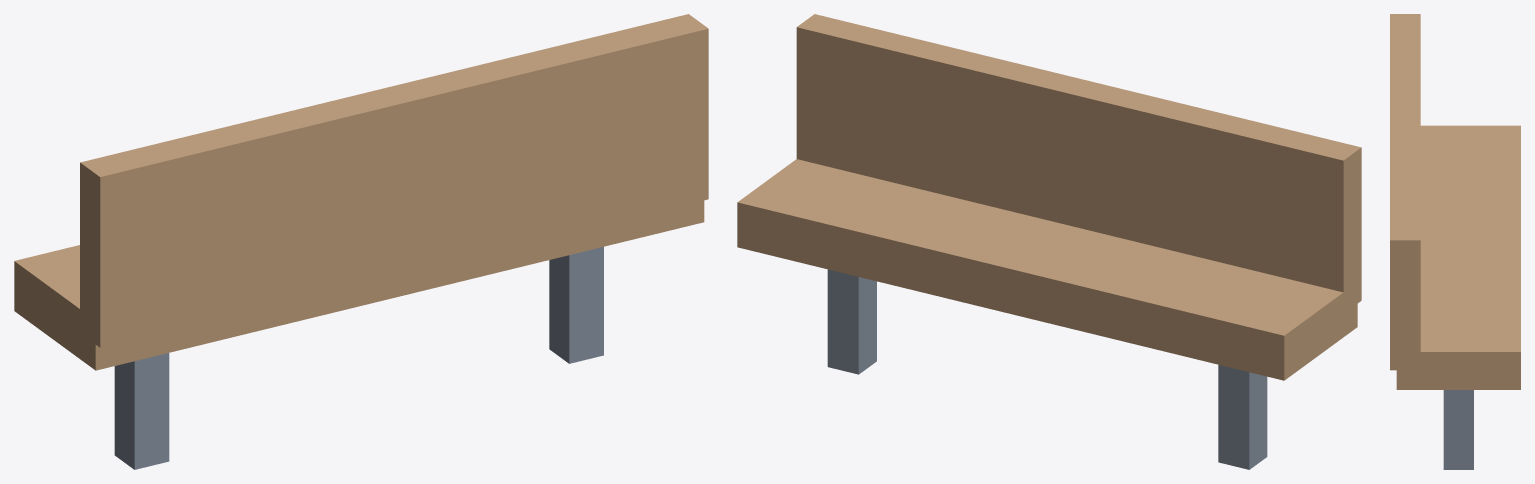
Rendered from bench.glb.
3 renders of one model, left to right at view 1: azimuth 30°, elevation 25°; view 2: azimuth 150°, elevation 25°; view 3: azimuth 270°, elevation 25°, orthographic. The views are drawn at different scales.
Visible parts, largest first — view 1: Back, Seat, Leg-1, Leg1; view 2: Back, Seat, Leg1, Leg-1; view 3: Seat, Back, Leg1.
Part boxes in pixels (x1,y1,x2,y2): Back: (80, 14, 708, 347); Seat: (14, 200, 704, 370); Leg-1: (114, 353, 169, 469); Leg1: (549, 247, 603, 363); Back: (796, 14, 1361, 313); Seat: (737, 159, 1357, 380); Leg1: (827, 269, 876, 374); Leg-1: (1218, 364, 1267, 469); Seat: (1396, 125, 1520, 389); Back: (1390, 14, 1420, 370); Leg1: (1443, 390, 1473, 469).
Bounding box in the file's own units: 2.8 × 1.48 × 0.685.
